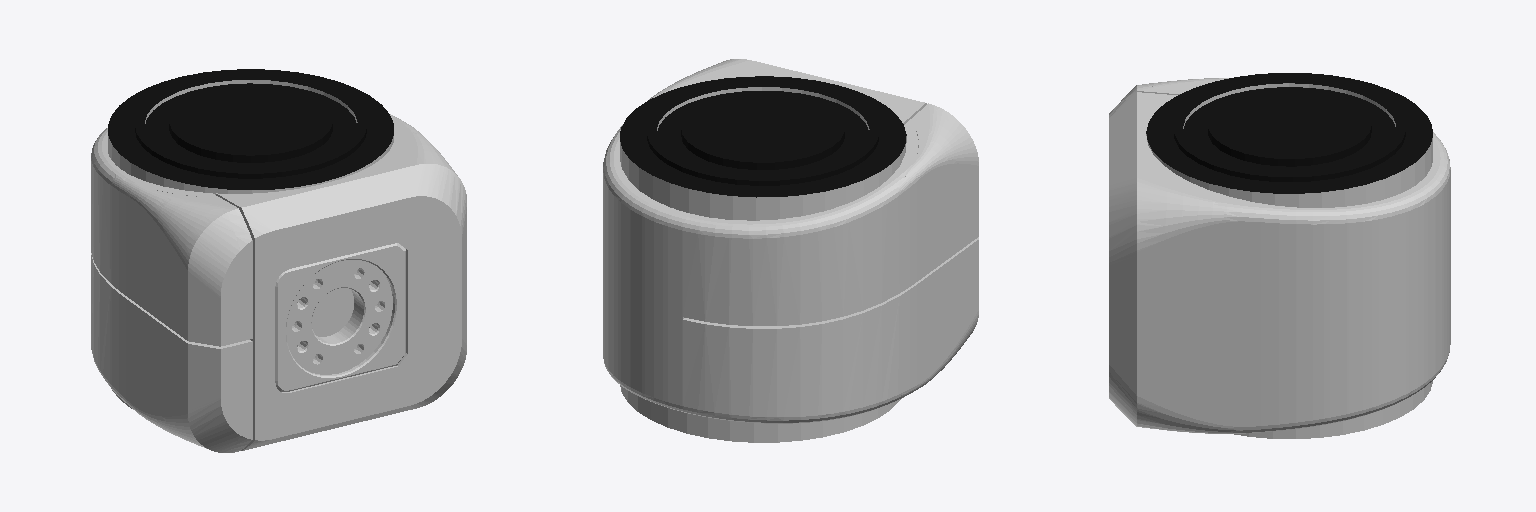
The model's file is Waist.obj.
The picture shows the model from 3 angles: view 1: azimuth 30°, elevation 25°; view 2: azimuth 150°, elevation 25°; view 3: azimuth 270°, elevation 25°; orthographic projection.
Visible parts, largest first — view 1: Waist; view 2: Waist; view 3: Waist.
Part boxes in pixels (bbox=[...]): Waist: bbox=[91, 69, 466, 452]; Waist: bbox=[603, 59, 978, 442]; Waist: bbox=[1109, 73, 1450, 438].
Size of the model in its own units: 0.118 by 0.106 by 0.1248.